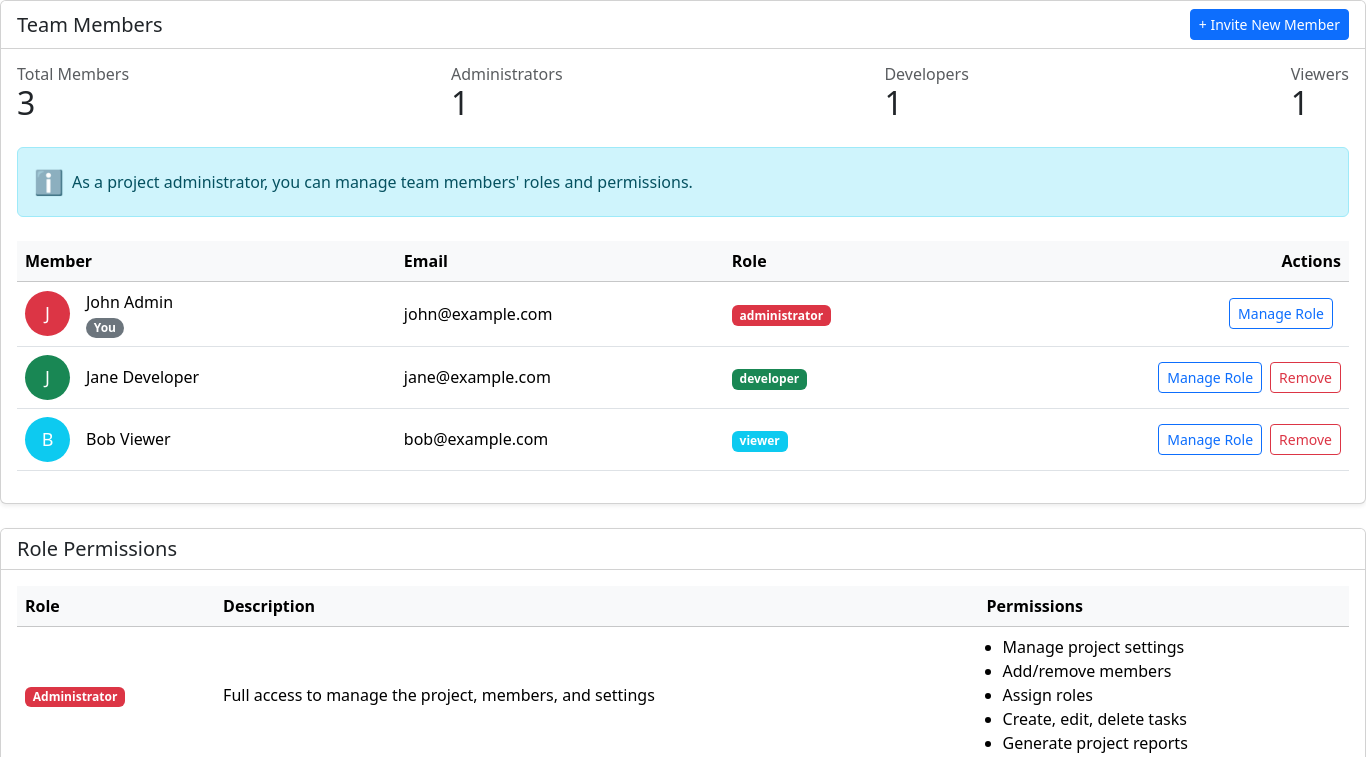
Test: opens role dropdown when manage role is clicked
Click the button "Manage Role" in the row of "Jane Developer" at (1210, 378), box left=1158, top=362, right=1262, bottom=393
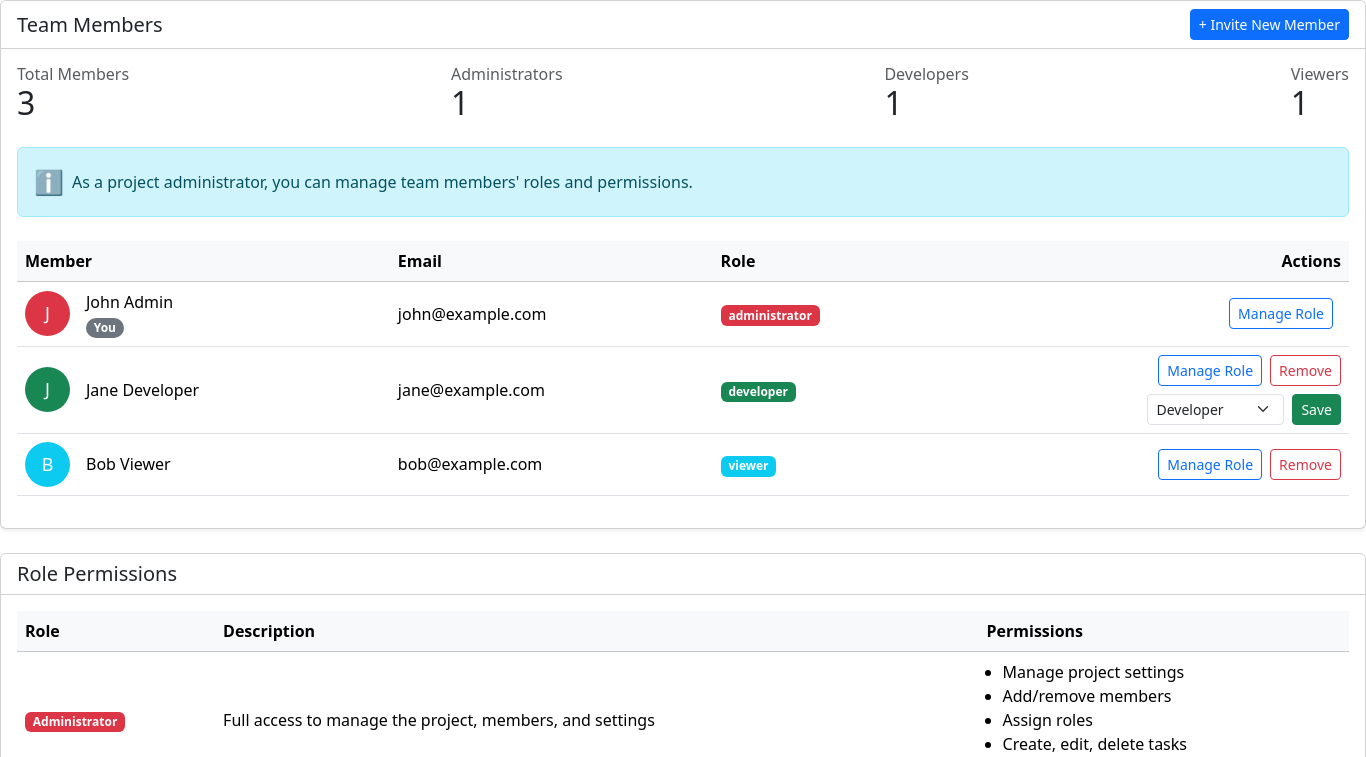
Now the dropdown is shown, box left=1147, top=394, right=1284, bottom=425
Now the button "Save" is shown, box left=1292, top=394, right=1341, bottom=425
